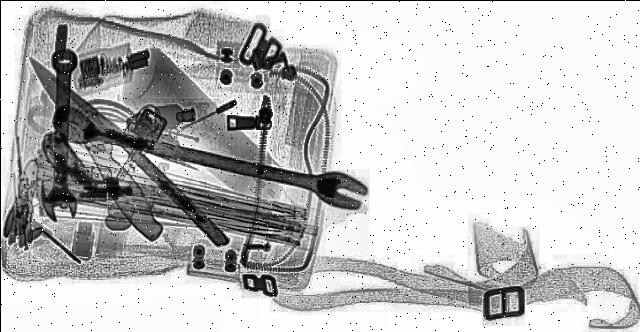Gun: (37, 126, 171, 196)
Knife: (45, 74, 234, 245), (22, 54, 172, 240)
Wrench: (36, 110, 384, 210), (40, 49, 80, 220)
